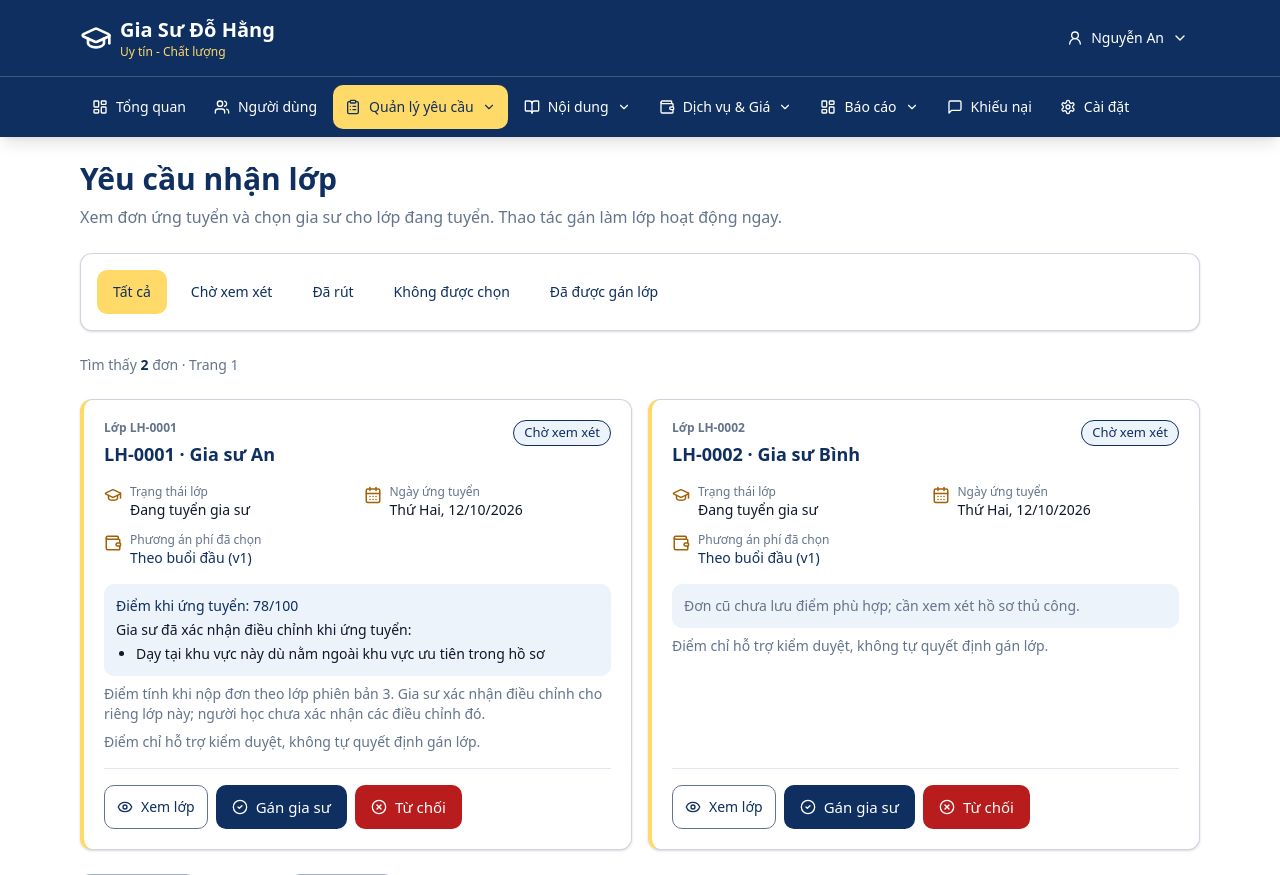
Test: AdminApplicationsPage match snapshot › shows the submission score and tutor commitment as advice, including legacy applications
expect the text "Điểm khi ứng tuyển: 78/100" is shown: met, box [116,596,298,615]
expect the list item "Dạy tại khu vực này dù nằm ngoài khu vực ưu tiên trong hồ sơ" is shown: met, box [136,644,599,664]
What coordinates should you click on to do the following:
click the button "Gán gia sư" below "Điểm tính khi nộp đơn theo lớp phiên bản"
I would click on:
 (281, 807)
Its box is [216,785,347,829].
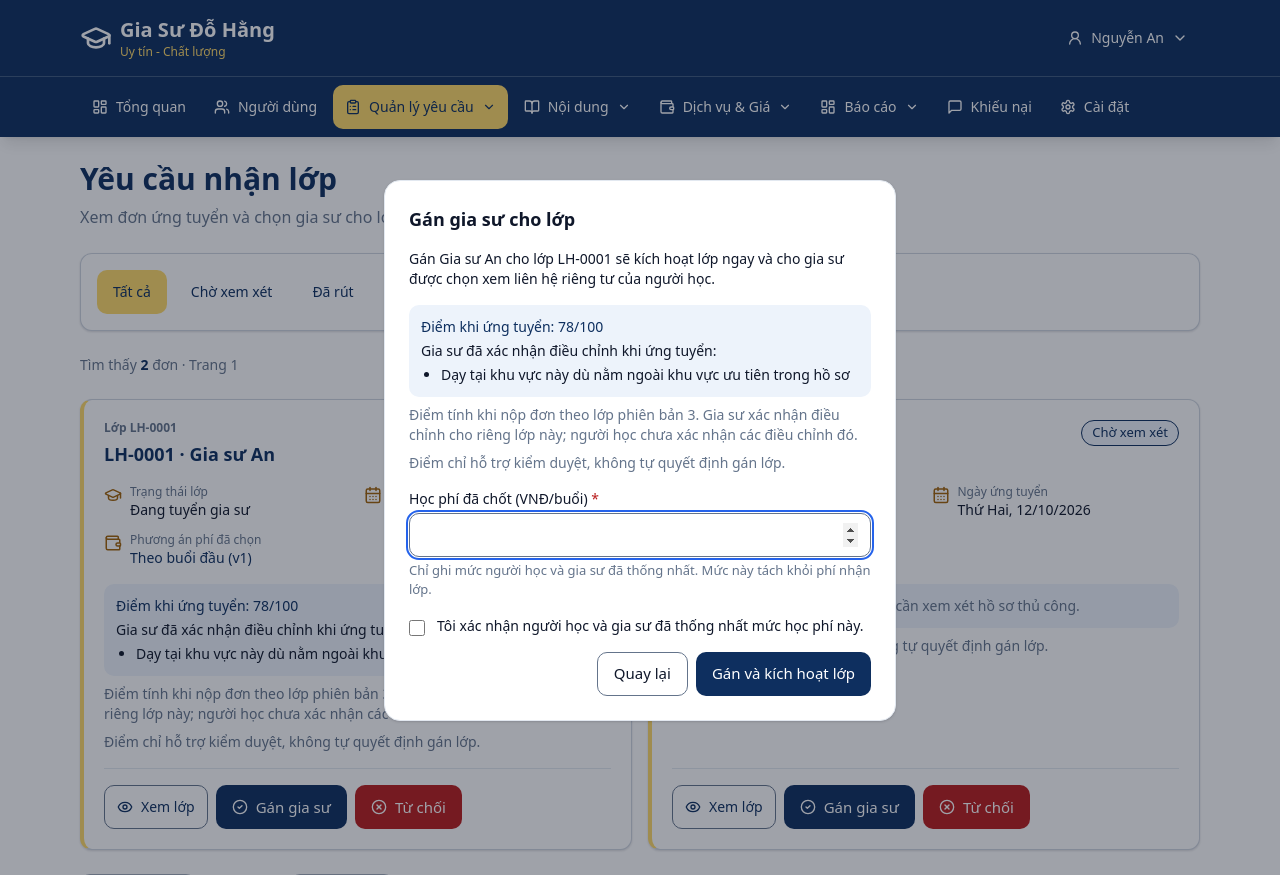
expect the text "Điểm khi ứng tuyển: 78/100" is shown: met, box [421,316,603,336]
expect the text "người học chưa xác nhận" is shown: met, box [409,404,858,444]
What coordinates should you click on to do the following:
click the button "Gán và kích hoạt lớp"
I would click on:
 (783, 674)
Its box is [696,652,871,696].
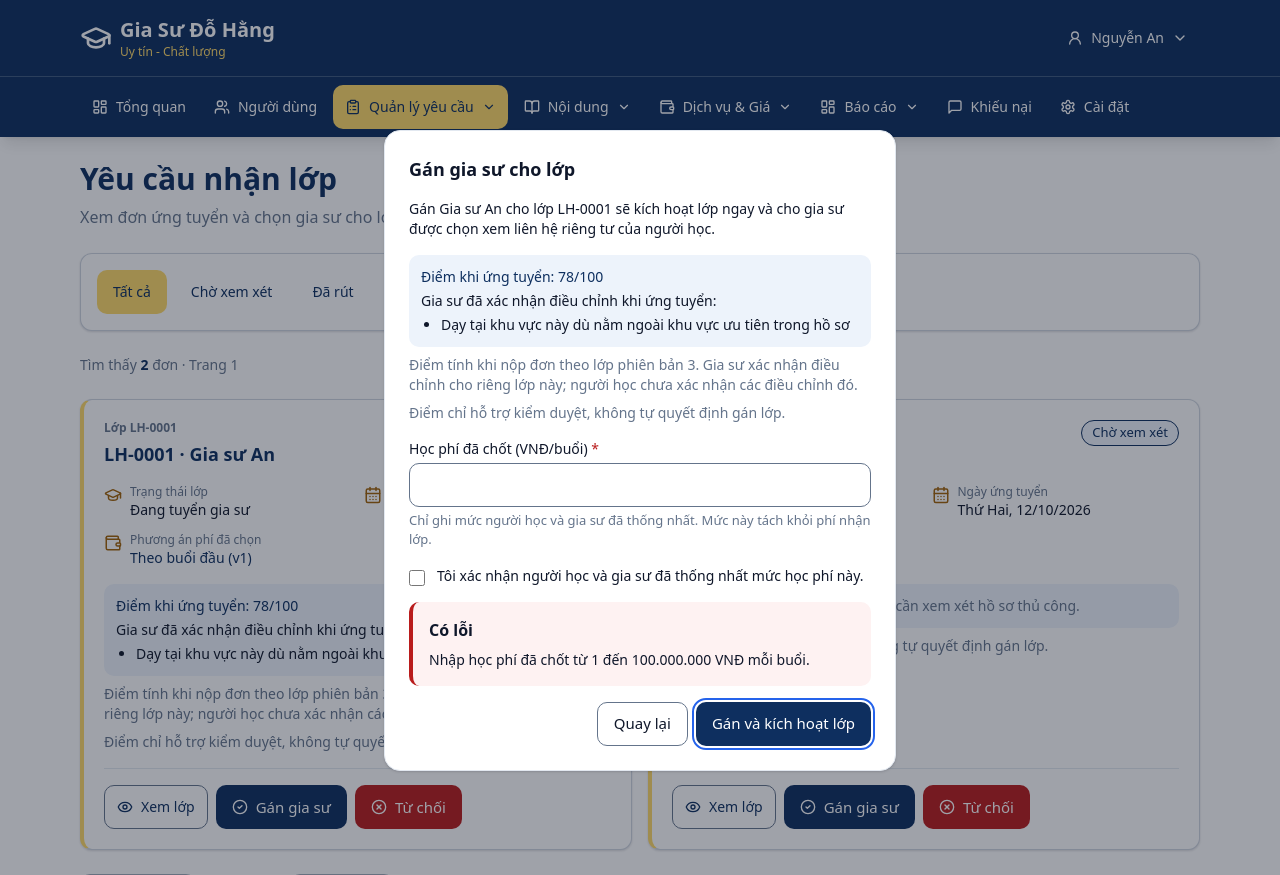
expect the text "Nhập học phí đã chốt từ 1 đến 100.000.000 VNĐ mỗi buổi." is shown: met, box [429,650,855,670]
